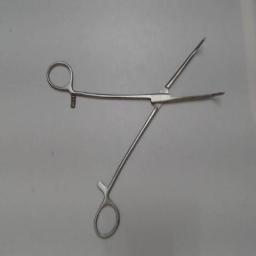Lahey Forceps: (42, 28, 228, 242)
